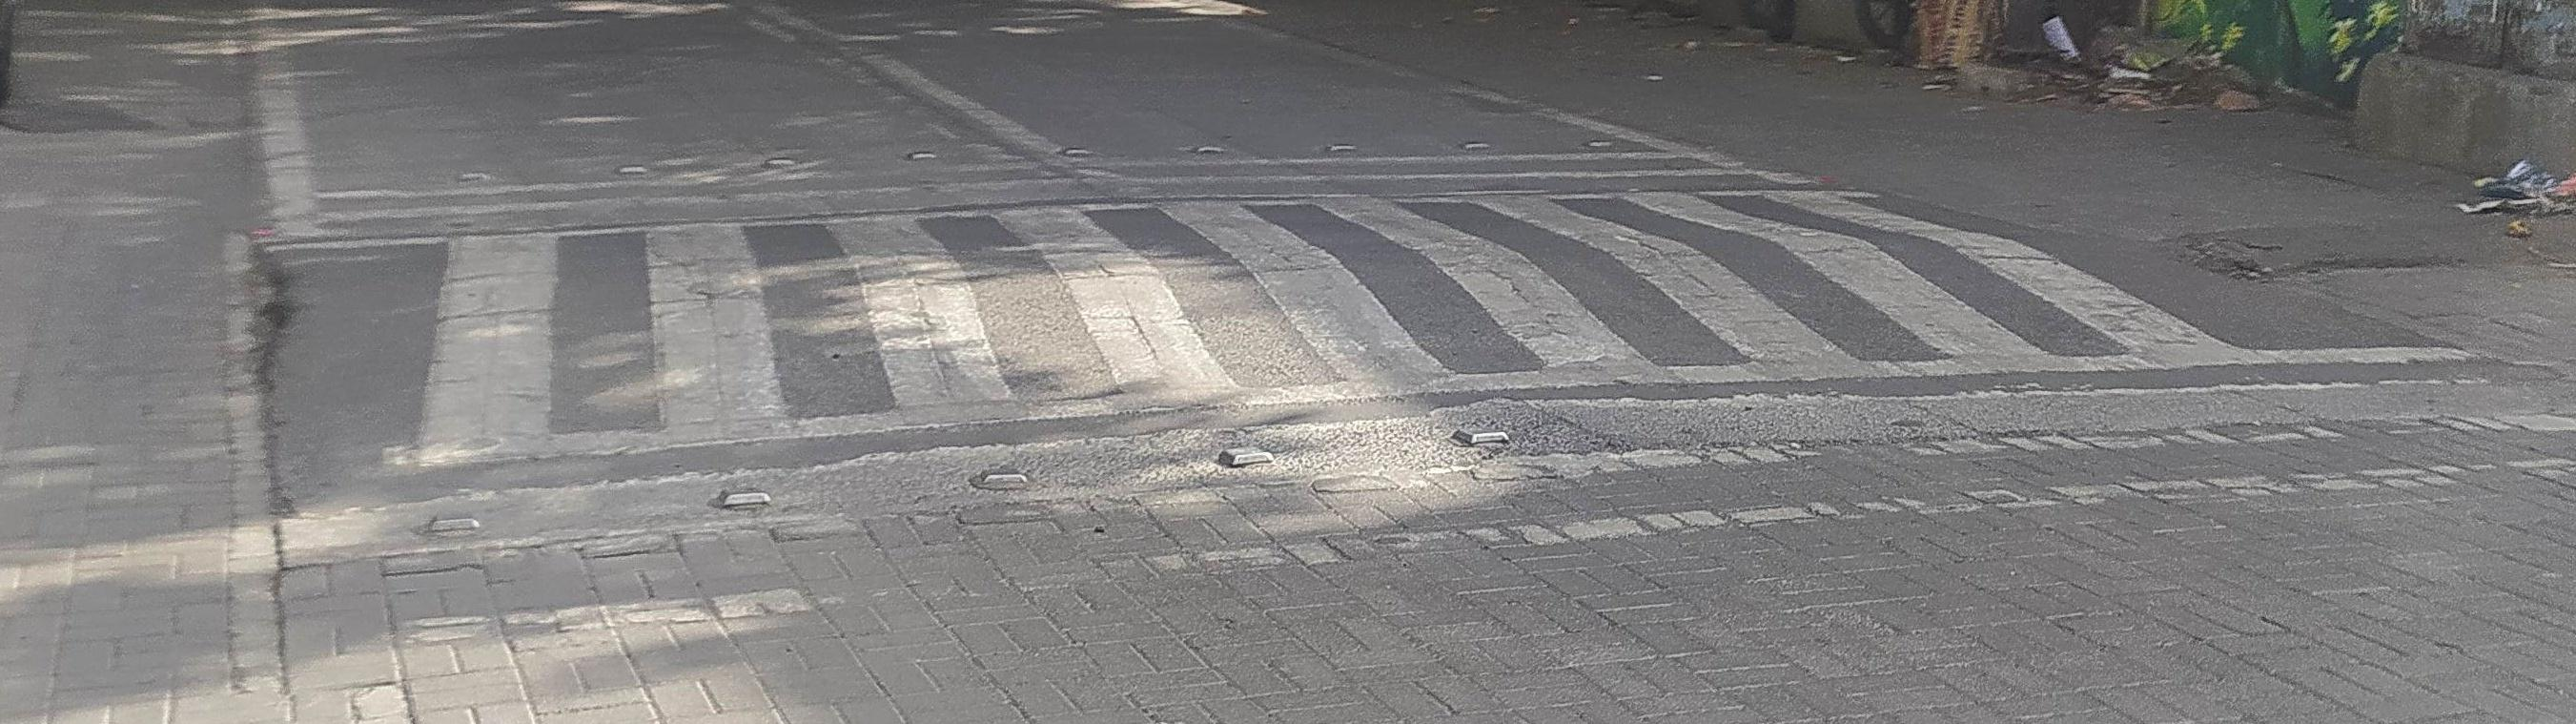speed-bump: (263, 187, 2477, 523)
